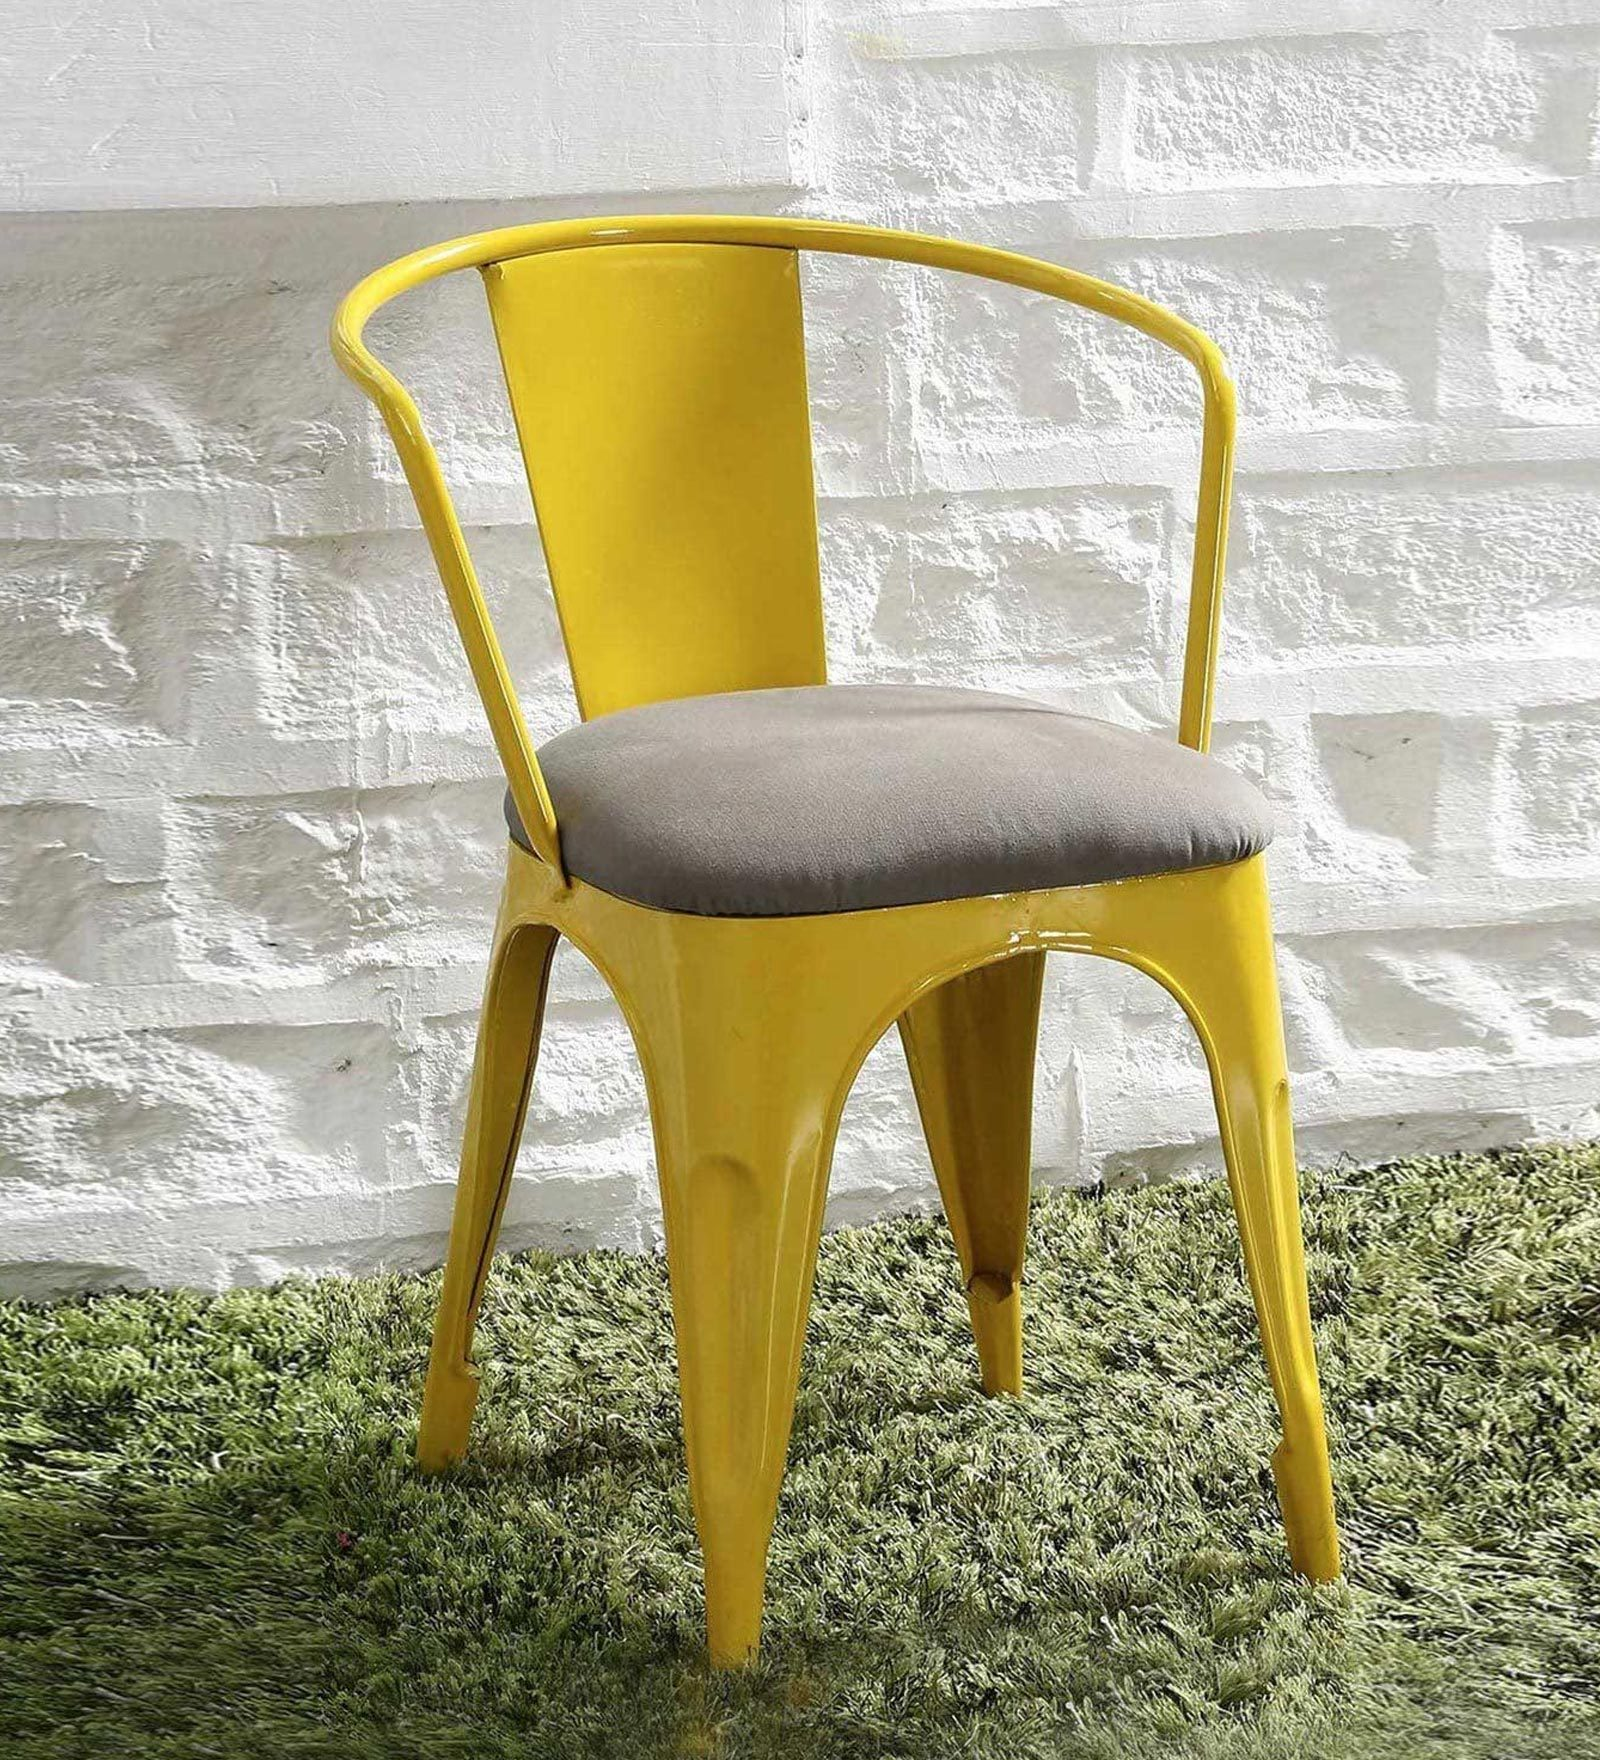Danlou Metal Chair with Cushion in Yellow Color by Bohemiana: (290, 169, 1419, 1699)
